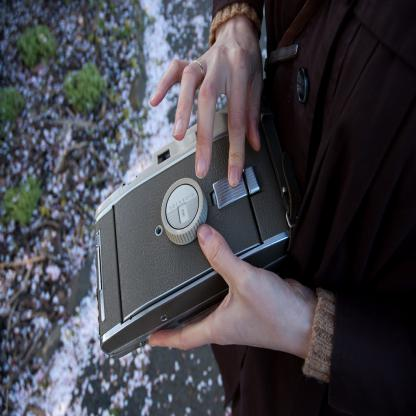Camera: (94, 95, 299, 363)
